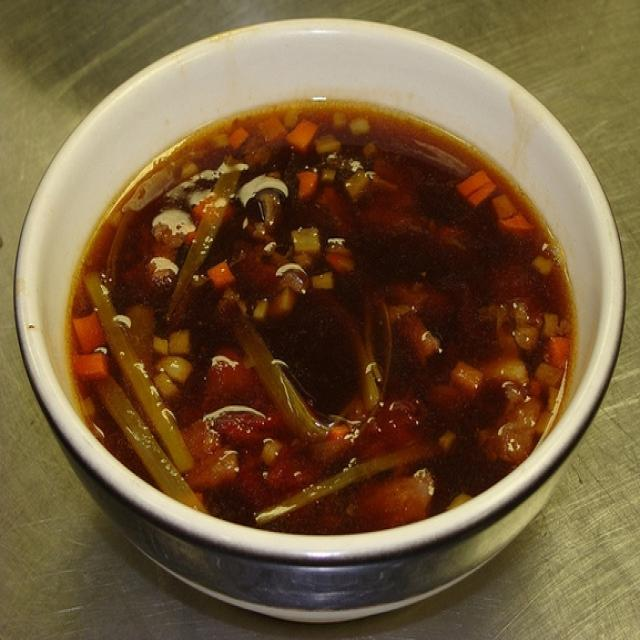汤锅炖物: (51, 50, 581, 571)
